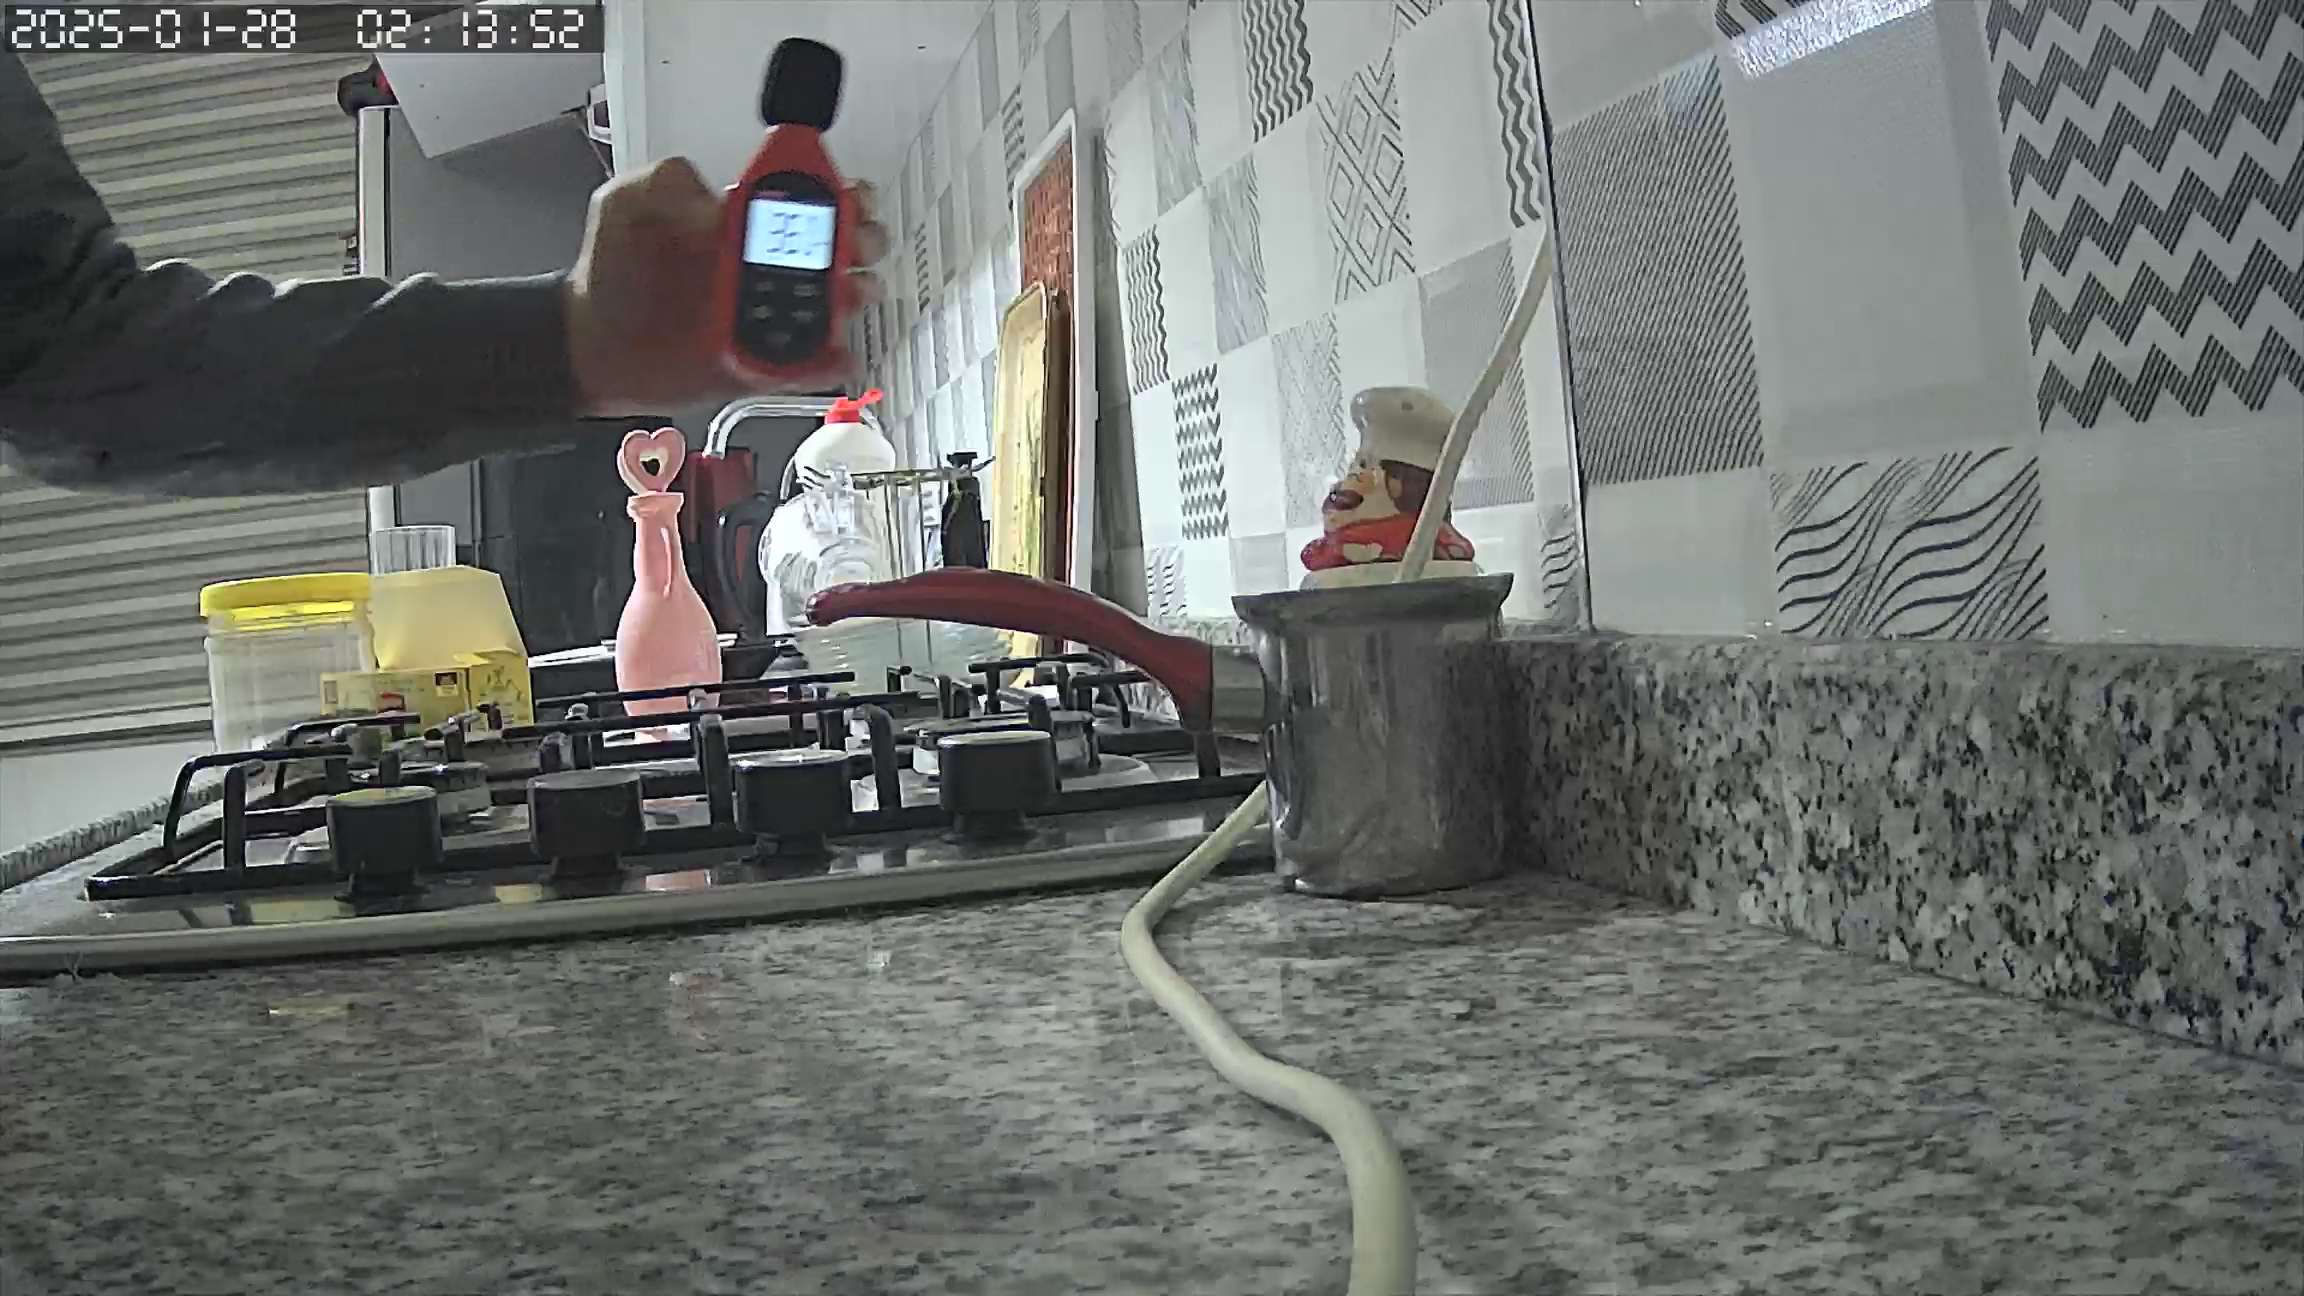screen: (744, 199, 832, 271)
